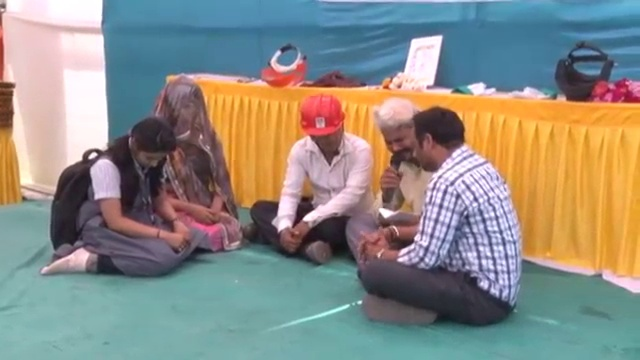helmet: (297, 98, 350, 141)
helmet_off: (156, 75, 209, 144), (414, 106, 467, 174), (122, 115, 178, 176), (377, 96, 422, 167)
helmet_on: (295, 96, 351, 158)
person: (354, 98, 526, 320), (43, 119, 199, 279), (245, 86, 376, 265), (153, 71, 239, 257), (345, 96, 438, 260)
